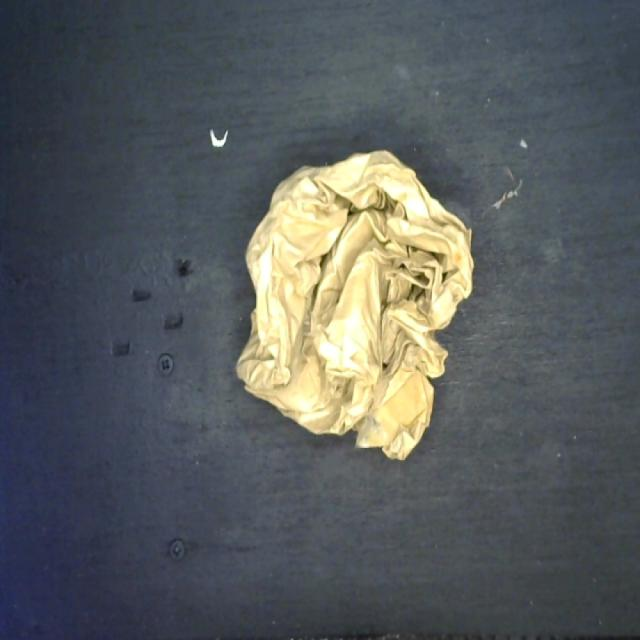biodegradable: (229, 144, 476, 472)
